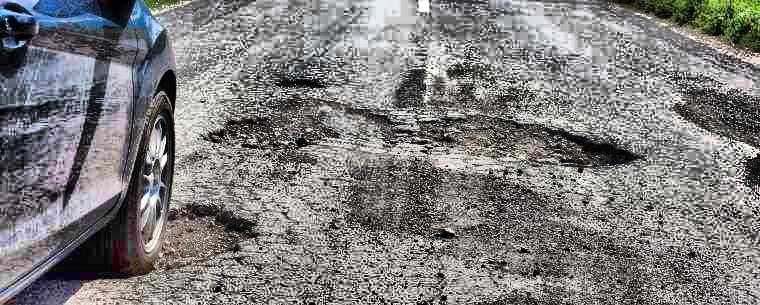pothole: (399, 117, 646, 170), (167, 201, 256, 270), (204, 109, 298, 156), (273, 75, 322, 92)
